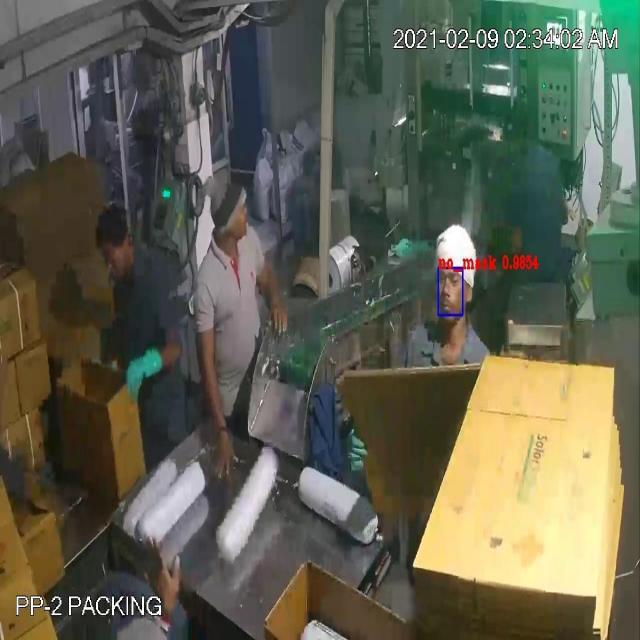No_Gloves: (42, 67, 272, 568)
